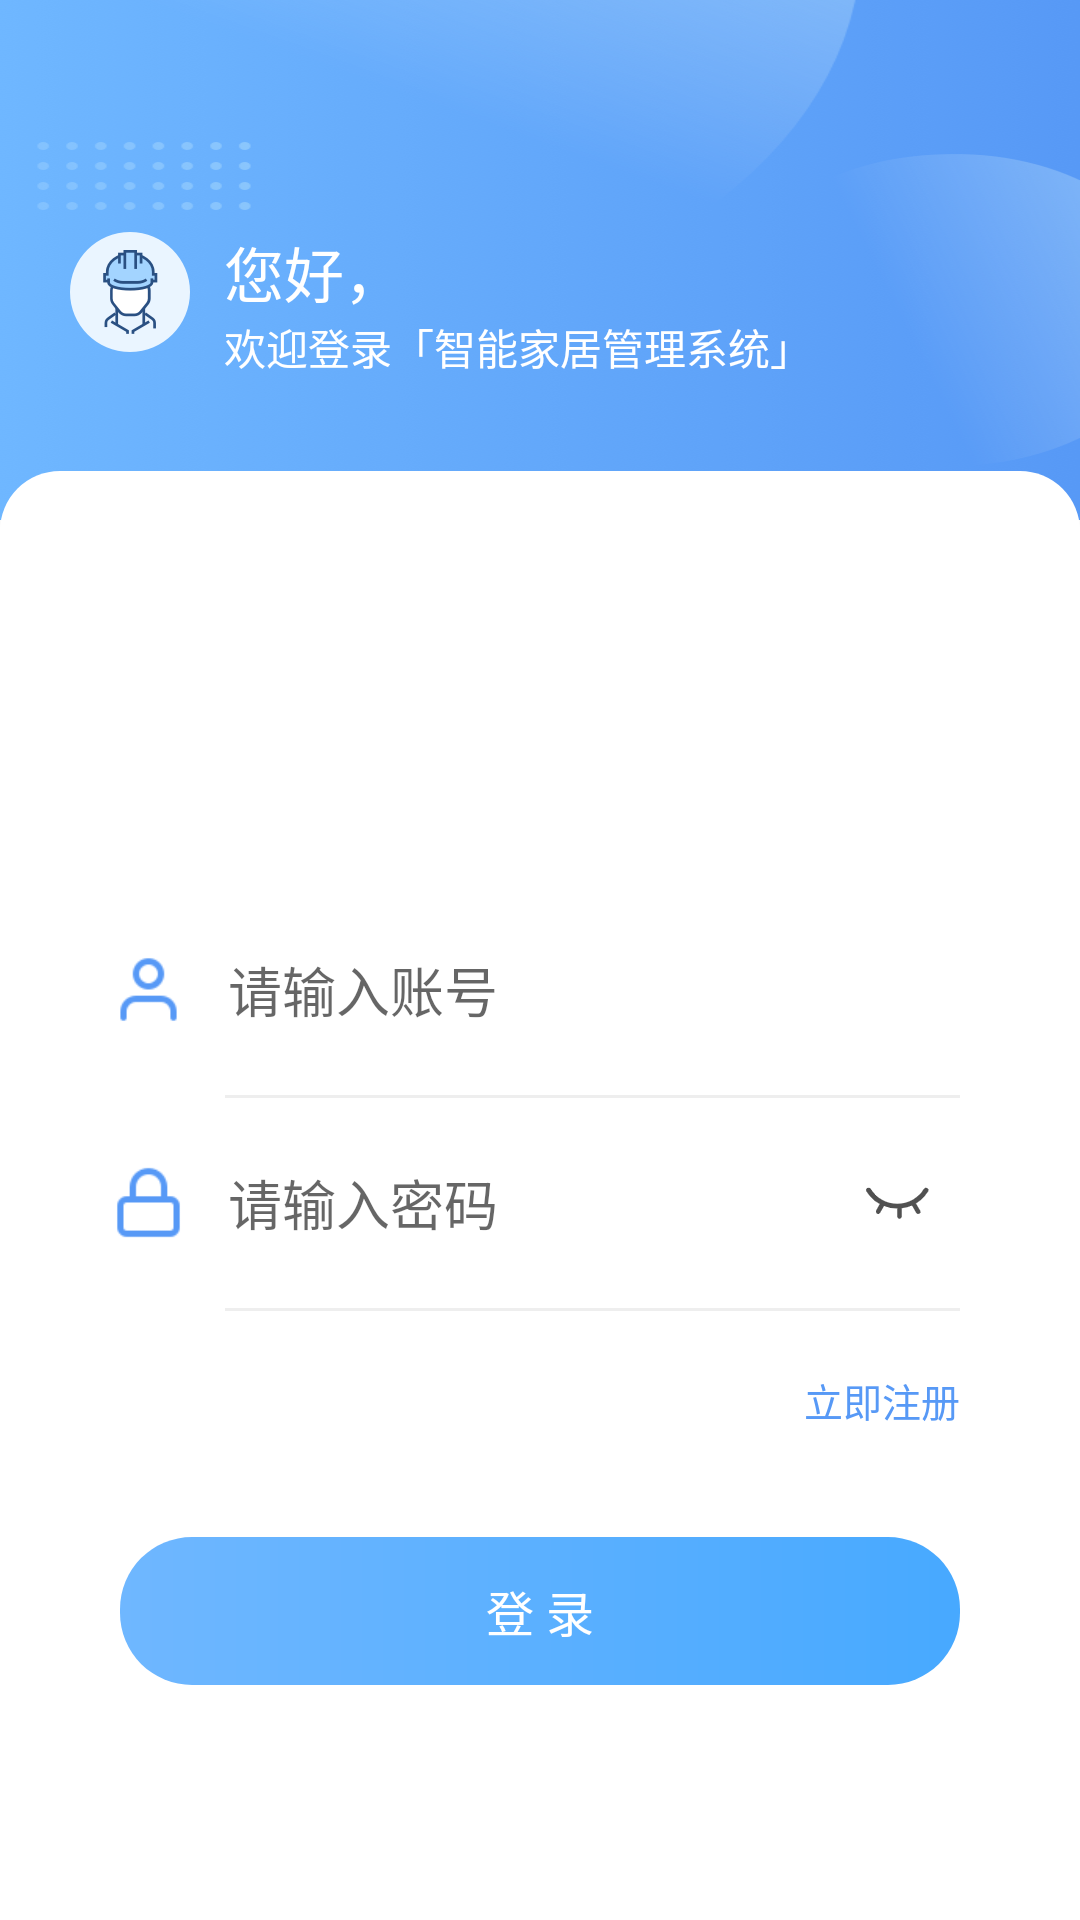

Named icons in this screenshot (1080x1920) and their centers, (x=x, y=y):
hidden pass: (x=897, y=1203)
profile login: (x=130, y=292)
user: (x=148, y=989)
